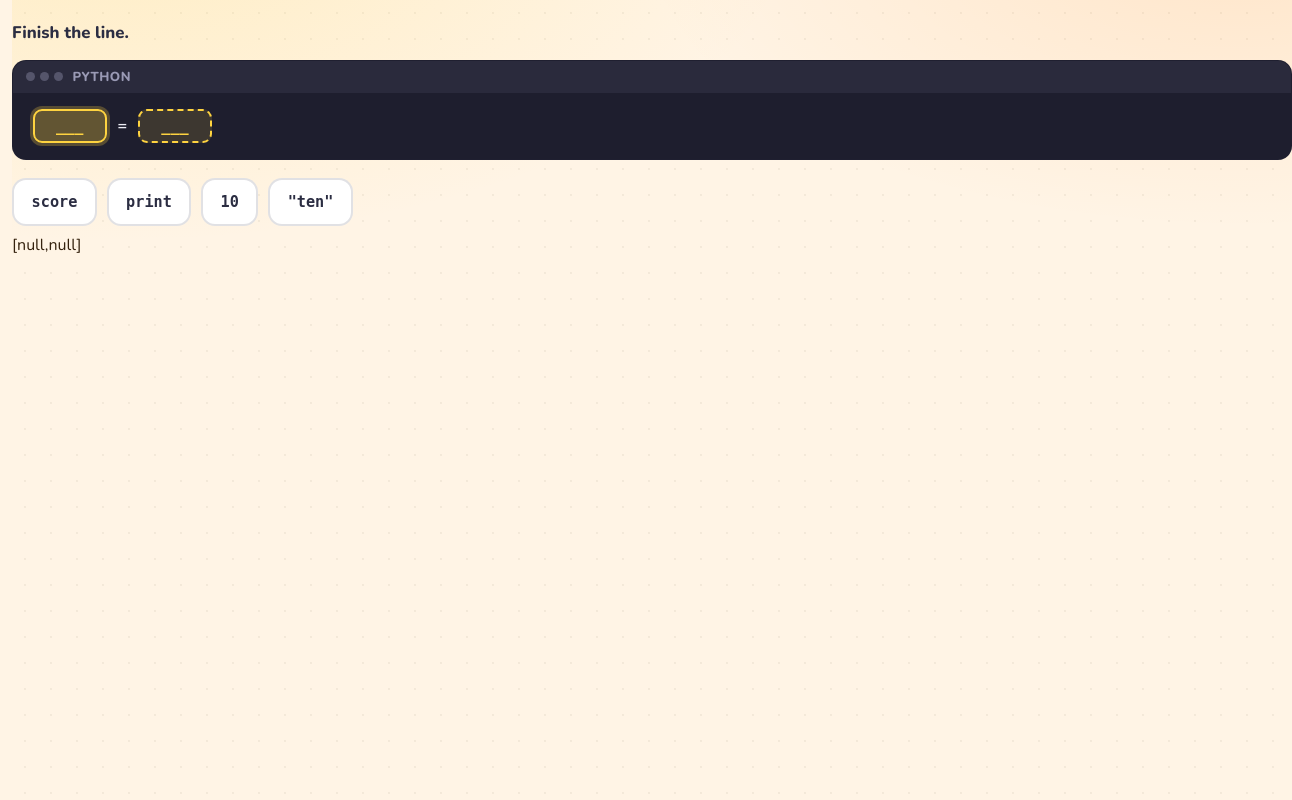
FillBlank › a child who changes their mind can take a word back out
Click the button "score".
click(54, 202)  # box x1=12 y1=178 x2=97 y2=226
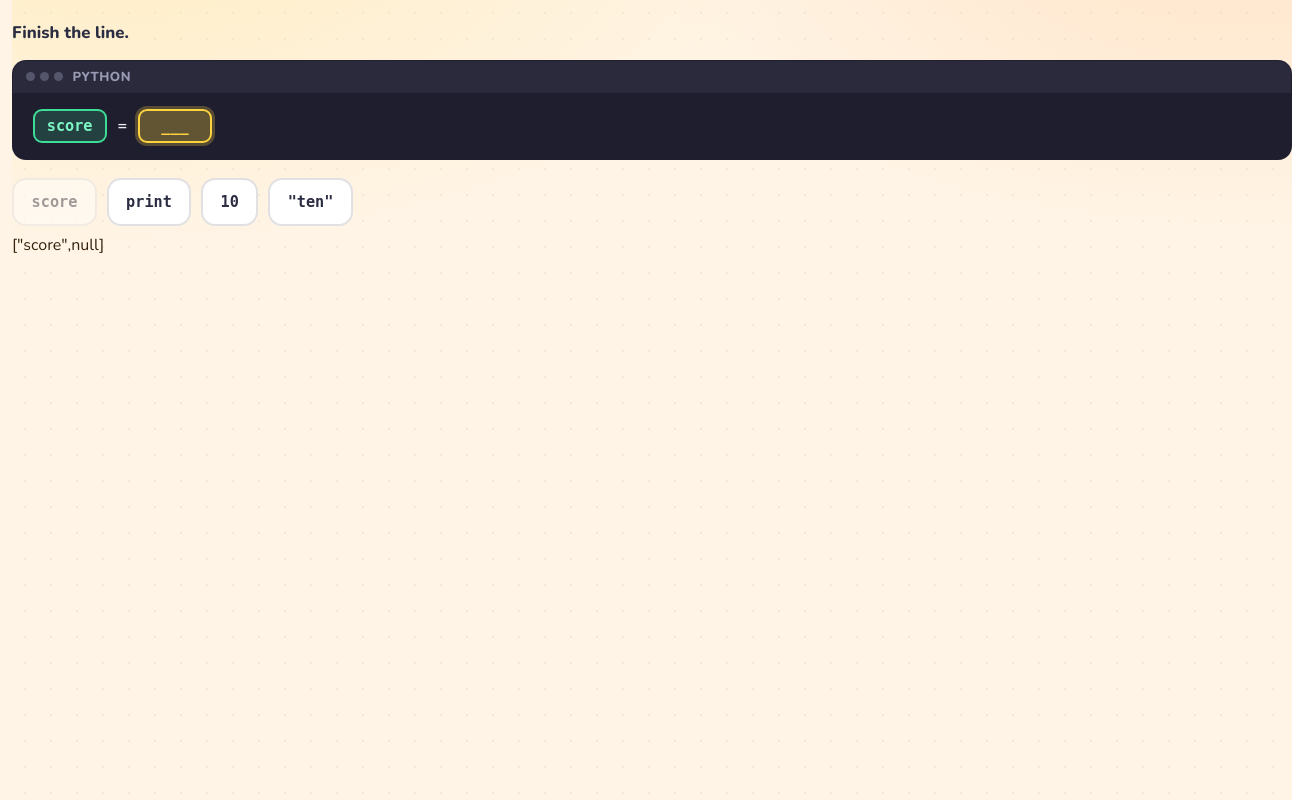
Click the button with aria-label "Blank 1, filled with score".
click(70, 126)  # box x1=33 y1=109 x2=107 y2=143
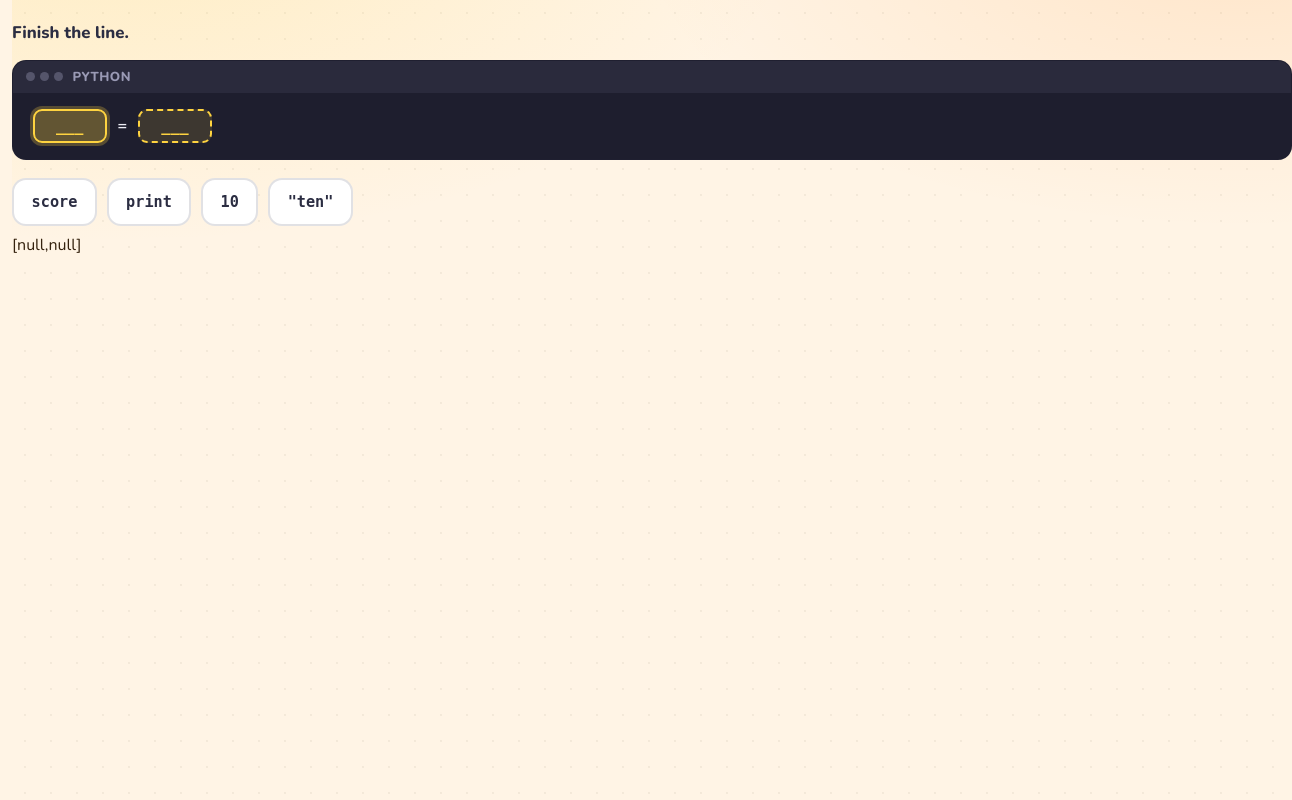
Expected: the text with test id "state" reads "[null,null]", x1=12 y1=234 x2=82 y2=256
